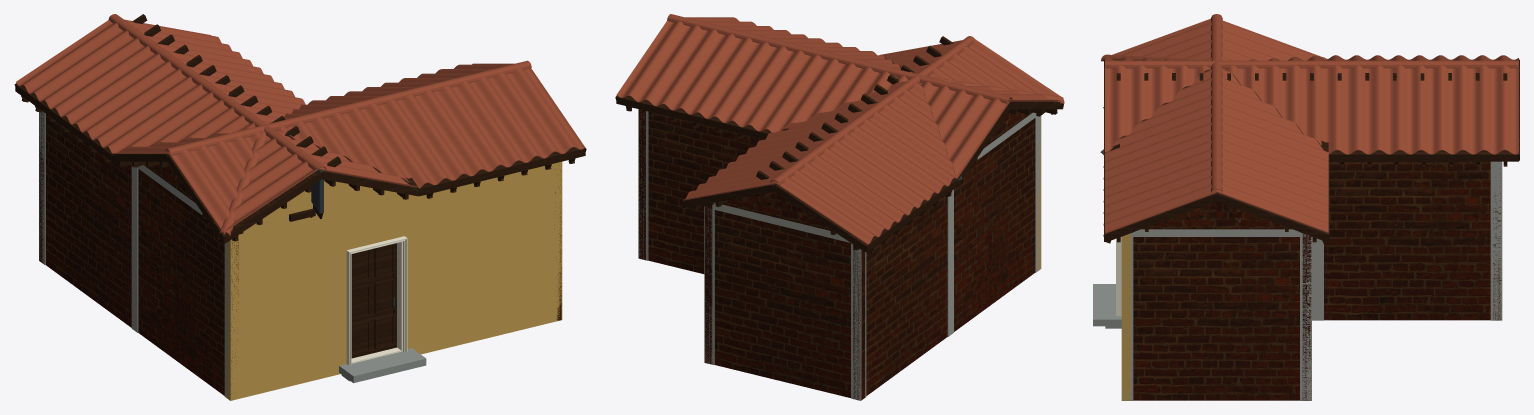
Rendered from building.glb.
3 renders of one model, left to right at view 1: azimuth 30°, elevation 25°; view 2: azimuth 150°, elevation 25°; view 3: azimuth 270°, elevation 25°, orthographic. The views are drawn at different scales.
Parts seen in each view (by area): view 1: house:0/edge0/z0/house:0/edge0/z0/wall_0_0, house:0/edge5/z0/house:0/edge5/z0/wall_0_0, site/entrance/0/entrance_step#0002, roof_assembly/cubierta/roof_fascia#0003, house:0/edge5/z0/house:0/edge5/z0/column_2_0, house:0/edge0/z0/opening_u2.80_v0.12/door_panel_back#0001, house:0/edge5/z0/house:0/edge5/z0/column_1_0, house:0/edge5/z0/house:0/edge5/z0/column_0_0, roof_assembly/cubierta/roof_fascia#0010, roof_assembly/cubierta/roof_fascia#0009, roof_assembly/cubierta/roof_fascia#0014, house:0/edge0/z0/opening_u2.80_v0.12/door_reveal#0001 (+7 smaller); view 2: house:0/edge5/z0/house:0/edge5/z0/wall_0_0, house:0/edge4/z0/house:0/edge4/z0/wall_0_0, house:0/edge2/z0/house:0/edge2/z0/wall_0_0, house:0/edge4/z0/house:0/edge4/z0/column_1_0, house:0/edge3/z0/house:0/edge3/z0/wall_0_0, roof_assembly/cubierta/roof_fascia#0007, house:0/edge1/z0/house:0/edge1/z0/wall_0_0, house:0/edge4/z0/house:0/edge4/z0/beam_0_0, house:0/edge5/z0/house:0/edge5/z0/column_2_0, house:0/edge5/z0/house:0/edge5/z0/column_1_0, house:0/edge4/z0/house:0/edge4/z0/column_0_0, roof_assembly/cubierta/roof_gable_closure#0021 (+9 smaller); view 3: house:0/edge1/z0/house:0/edge1/z0/wall_0_0, house:0/edge3/z0/house:0/edge3/z0/wall_0_0, house:0/edge3/z0/house:0/edge3/z0/column_1_0, house:0/edge1/z0/house:0/edge1/z0/column_1_0, house:0/edge0/z0/house:0/edge0/z0/wall_0_0, roof_assembly/cubierta/roof_fascia#0013, house:0/edge1/z0/house:0/edge1/z0/beam_0_0, house:0/edge2/z0/house:0/edge2/z0/wall_0_0, roof_assembly/cubierta/roof_gable_closure#0008, roof_assembly/cubierta/roof_gable_closure#0006, site/entrance/0/entrance_step#0002, roof_assembly/cubierta/roof_fascia#0004 (+6 smaller).
Boxes of the visible parts, x1,y1,x2,y2 form: house:0/edge0/z0/house:0/edge0/z0/wall_0_0: (225,161,562,400); house:0/edge5/z0/house:0/edge5/z0/wall_0_0: (45,114,238,395); site/entrance/0/entrance_step#0002: (339,348,426,383); roof_assembly/cubierta/roof_fascia#0003: (419,149,585,196); house:0/edge5/z0/house:0/edge5/z0/column_2_0: (131,166,138,332); house:0/edge0/z0/opening_u2.80_v0.12/door_panel_back#0001: (351,248,392,349); house:0/edge5/z0/house:0/edge5/z0/column_1_0: (224,241,231,400); house:0/edge5/z0/house:0/edge5/z0/column_0_0: (39,111,45,264); roof_assembly/cubierta/roof_fascia#0010: (223,172,323,242); roof_assembly/cubierta/roof_fascia#0009: (15,84,111,161); roof_assembly/cubierta/roof_fascia#0014: (321,171,420,196); house:0/edge0/z0/opening_u2.80_v0.12/door_reveal#0001: (346,236,404,363); house:0/edge5/z0/house:0/edge5/z0/wall_0_0: (853,118,1035,399); house:0/edge4/z0/house:0/edge4/z0/wall_0_0: (714,210,865,400); house:0/edge2/z0/house:0/edge2/z0/wall_0_0: (648,113,759,273); house:0/edge4/z0/house:0/edge4/z0/column_1_0: (851,243,861,400); house:0/edge3/z0/house:0/edge3/z0/wall_0_0: (705,205,712,364); roof_assembly/cubierta/roof_fascia#0007: (616,97,768,139); house:0/edge1/z0/house:0/edge1/z0/wall_0_0: (639,109,645,260); house:0/edge4/z0/house:0/edge4/z0/beam_0_0: (707,202,850,242); house:0/edge5/z0/house:0/edge5/z0/column_2_0: (947,189,953,336); house:0/edge5/z0/house:0/edge5/z0/column_1_0: (1035,116,1041,272); house:0/edge4/z0/house:0/edge4/z0/column_0_0: (704,208,714,364); roof_assembly/cubierta/roof_gable_closure#0021: (715,192,782,218); house:0/edge1/z0/house:0/edge1/z0/wall_0_0: (1133,237,1299,400); house:0/edge3/z0/house:0/edge3/z0/wall_0_0: (1324,161,1490,320); house:0/edge3/z0/house:0/edge3/z0/column_1_0: (1490,161,1502,320); house:0/edge1/z0/house:0/edge1/z0/column_1_0: (1300,237,1311,400); house:0/edge0/z0/house:0/edge0/z0/wall_0_0: (1121,233,1130,400); roof_assembly/cubierta/roof_fascia#0013: (1329,154,1518,161); house:0/edge1/z0/house:0/edge1/z0/beam_0_0: (1127,229,1308,236); house:0/edge2/z0/house:0/edge2/z0/wall_0_0: (1302,233,1311,400); roof_assembly/cubierta/roof_gable_closure#0008: (1216,201,1291,229); roof_assembly/cubierta/roof_gable_closure#0006: (1141,201,1216,229); site/entrance/0/entrance_step#0002: (1093,284,1121,326); roof_assembly/cubierta/roof_fascia#0004: (1103,194,1217,241).
Size of the model in its own units: 8.81 by 5.11 by 8.97.
8 materials, 2 textured.
